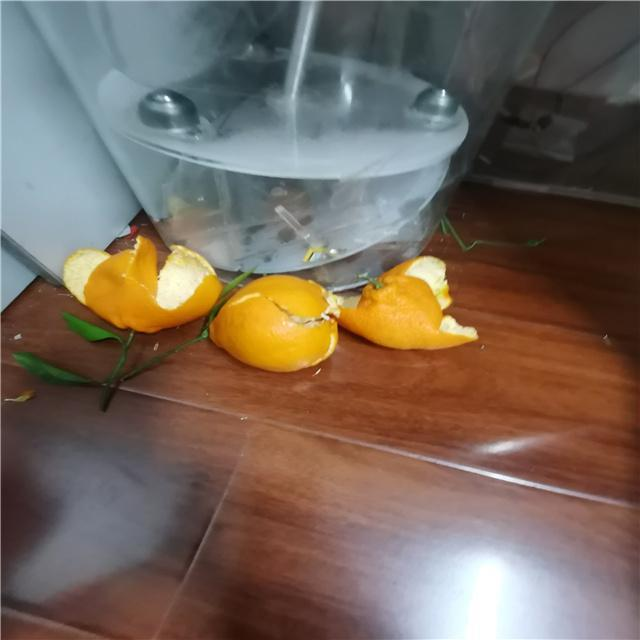orange-peel: (207, 272, 340, 373)
